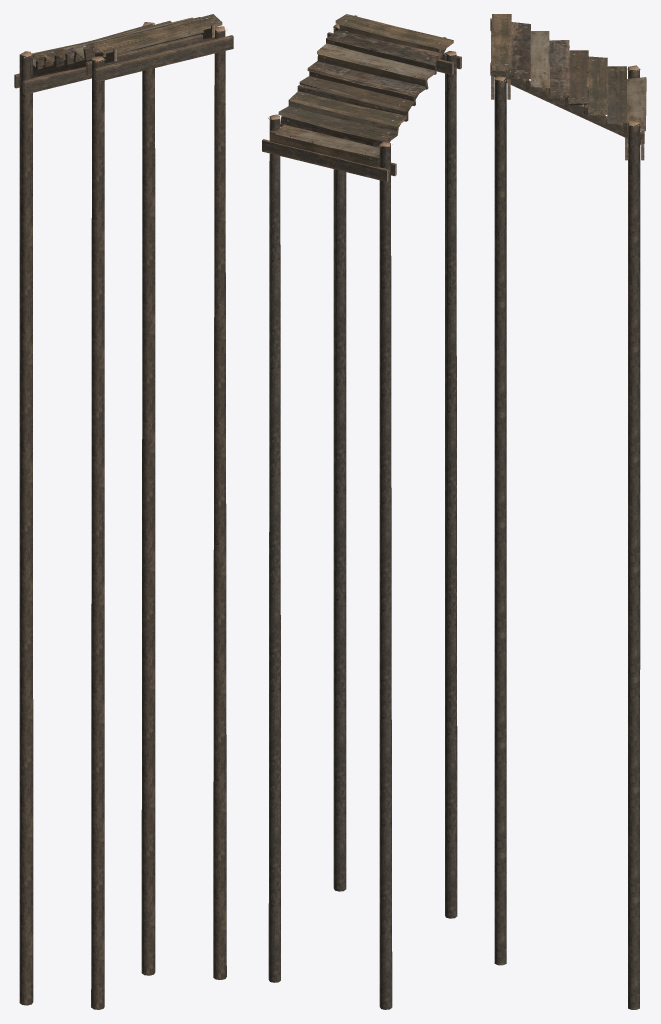
The model's file is wooden_walkway_large_stairs.glb.
The picture shows the model from 3 angles, left to right: view 1: azimuth 30°, elevation 25°; view 2: azimuth 150°, elevation 25°; view 3: azimuth 270°, elevation 25°; orthographic projection. The views are drawn at different scales.
Visible parts, largest first — view 1: wooden_walkway_large_stairs_LOD0; view 2: wooden_walkway_large_stairs_LOD0; view 3: wooden_walkway_large_stairs_LOD0.
Boxes of the visible parts, <box> form: wooden_walkway_large_stairs_LOD0: <box>14,14,233,1009</box>; wooden_walkway_large_stairs_LOD0: <box>262,14,461,1009</box>; wooden_walkway_large_stairs_LOD0: <box>490,14,646,1009</box>.
Size of the model in its own units: 2.88 by 20.16 by 3.04.
Materials: 2 (2 with a texture image).
